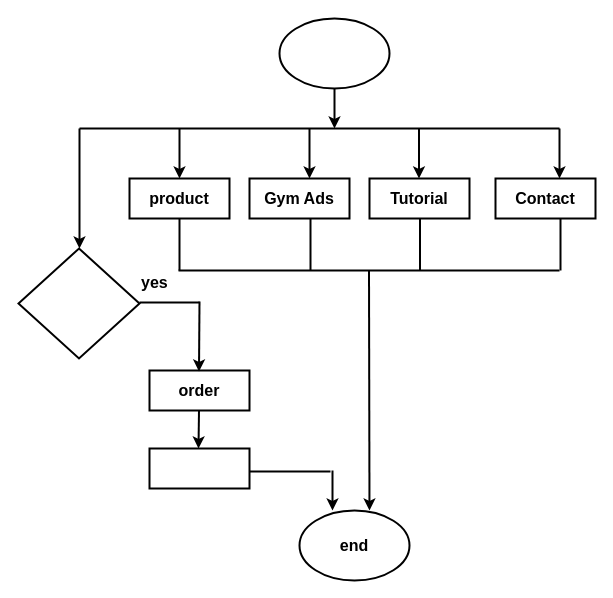
The diagram is 613 pixels wide and 598 high, and some of its shapes have lost their labels. Here are the shapes that lost their labels. From the top down, the centre of each, then its label:
At point 334,53: "start".
At point 78,303: "login/signup".
At point 199,468: "logout".
